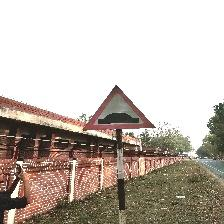Speed-breaker: (83, 87, 155, 130)
